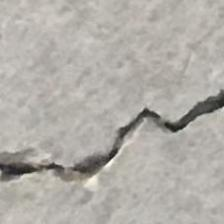Crack: (0, 86, 224, 200)
